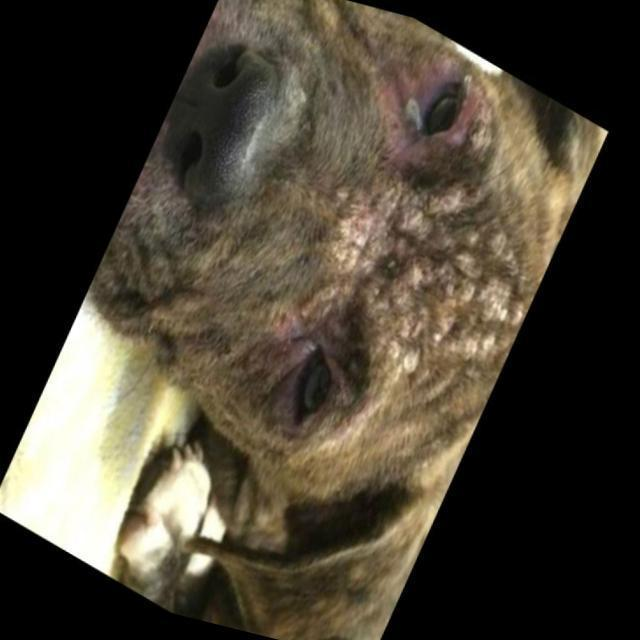mange: (325, 174, 528, 395)
